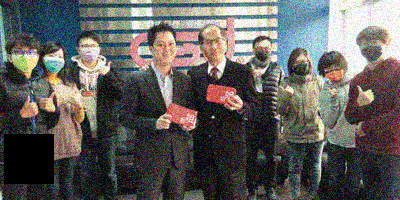with_mask: (12, 47, 40, 73), (361, 37, 386, 64), (44, 51, 66, 75), (80, 42, 99, 63), (292, 58, 311, 77), (327, 64, 346, 83), (256, 45, 271, 63)
without_mask: (153, 39, 179, 65), (203, 35, 225, 59)
